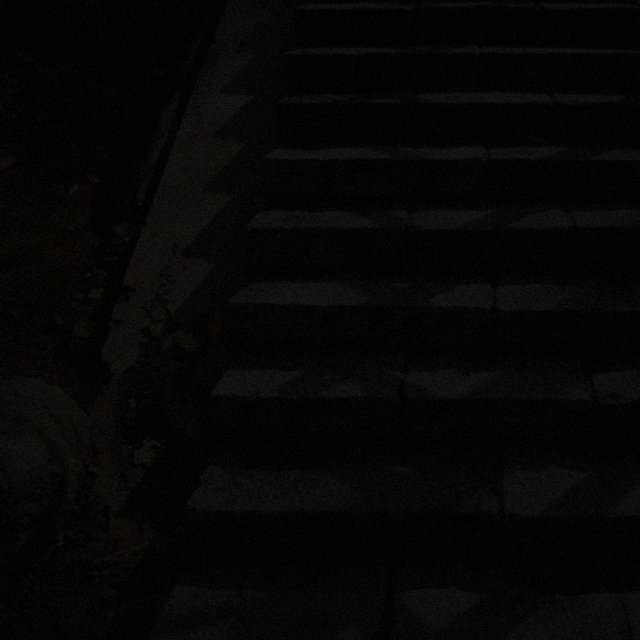stair: (185, 0, 639, 556)
